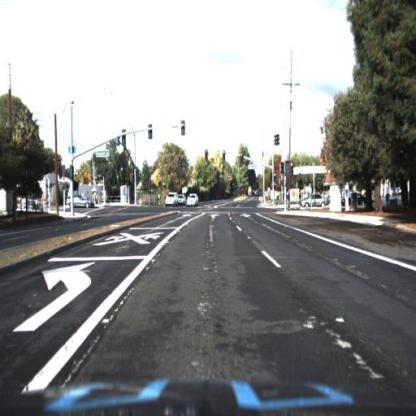biker: (159, 194, 162, 208)
car: (340, 186, 376, 213), (298, 191, 331, 210), (69, 194, 92, 208), (165, 193, 177, 209), (187, 193, 198, 208), (178, 193, 185, 205)
trafficLight-Red: (271, 172, 279, 189), (222, 149, 228, 163), (238, 151, 244, 165), (290, 162, 295, 178), (272, 171, 278, 182), (203, 147, 208, 160), (205, 148, 210, 161), (223, 148, 228, 160), (290, 162, 295, 172), (241, 151, 245, 163)
